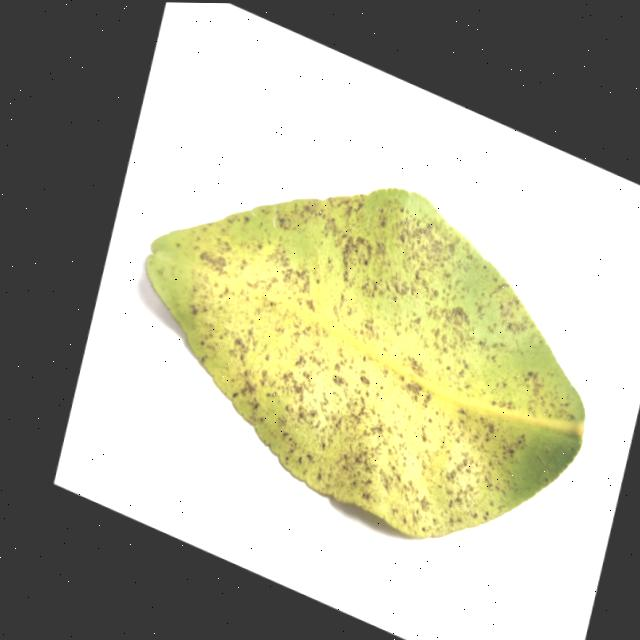melanose: (146, 188, 584, 536)
